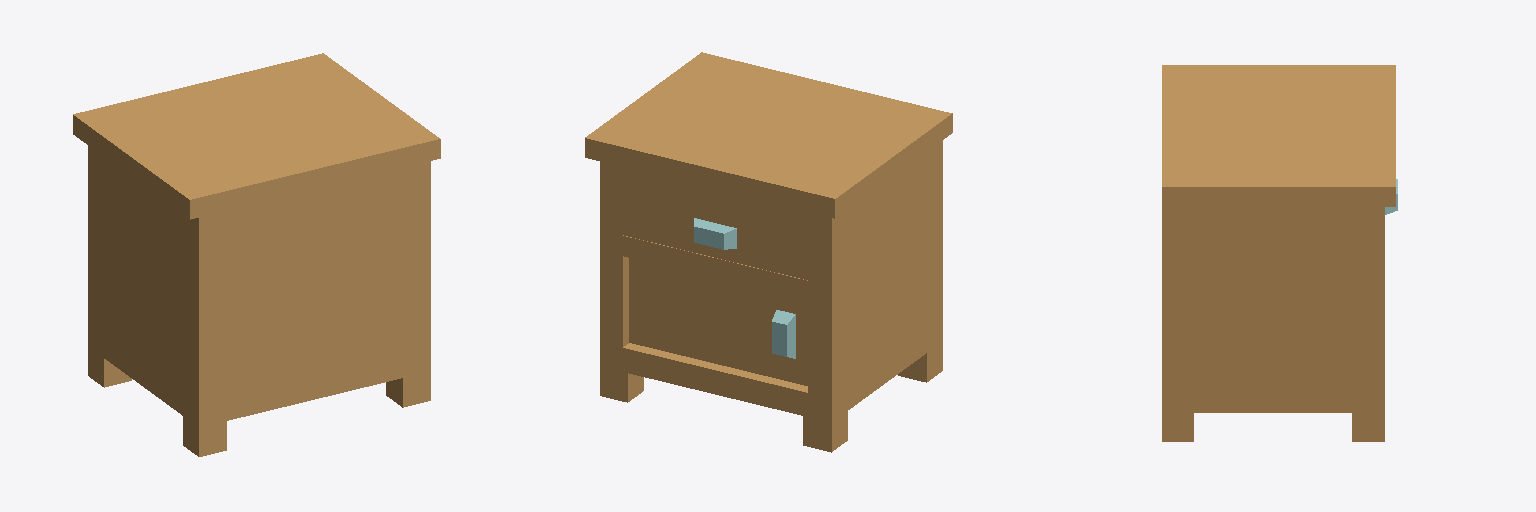
Rendered from cabinetBedDrawer.obj.
3 renders of one model, left to right at view 1: azimuth 30°, elevation 25°; view 2: azimuth 150°, elevation 25°; view 3: azimuth 270°, elevation 25°, orthographic.
Parts seen in each view (by area): view 1: cabinetBedDrawer; view 2: cabinetBedDrawer, door 2, drawer; view 3: cabinetBedDrawer.
Part boxes in pixels (bbox=[...]): cabinetBedDrawer: bbox=[73, 53, 440, 456]; cabinetBedDrawer: bbox=[585, 52, 952, 452]; door 2: bbox=[629, 258, 807, 385]; drawer: bbox=[623, 186, 807, 279]; cabinetBedDrawer: bbox=[1162, 65, 1395, 441].
Bounding box in the file's own units: 2.66 × 2.63 × 2.17.